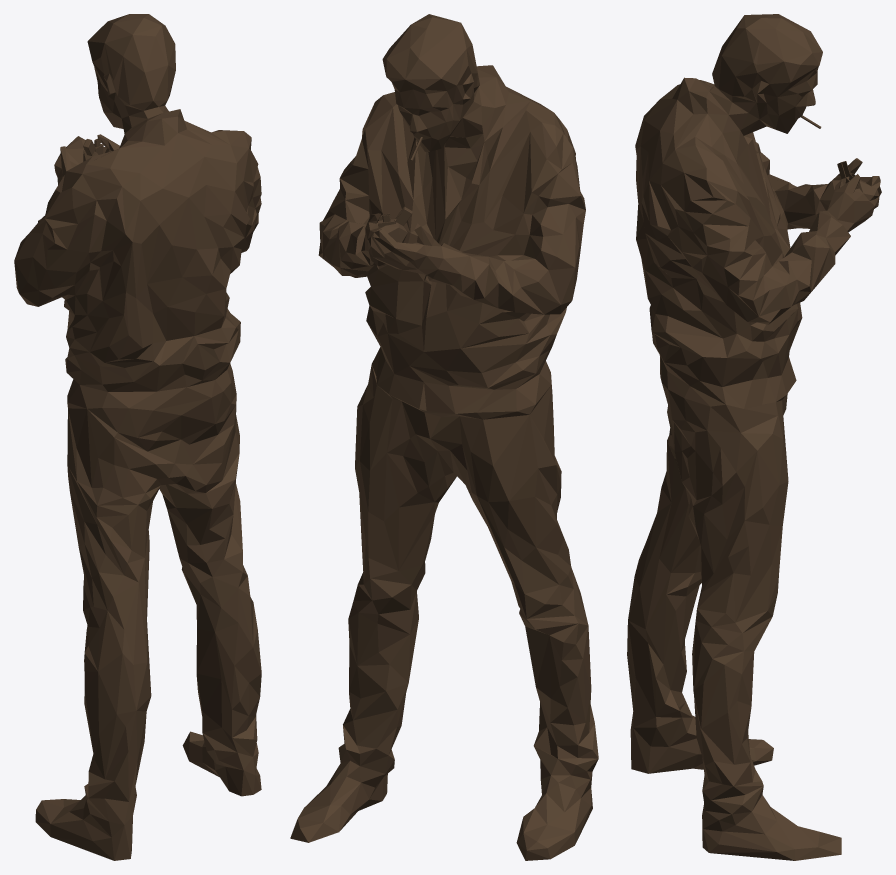
File: detective_Col.fbx
3 renders of one model, left to right at view 1: azimuth 30°, elevation 25°; view 2: azimuth 150°, elevation 25°; view 3: azimuth 270°, elevation 25°, orthographic. The views are drawn at different scales.
Visible parts, largest first — view 1: Detective; view 2: Detective; view 3: Detective.
Boxes of the visible parts, bbox=[...] form: Detective: bbox=[14, 14, 261, 860]; Detective: bbox=[290, 14, 598, 860]; Detective: bbox=[627, 14, 881, 860].
Size of the model in its own units: 42.54 by 130 by 38.17.
